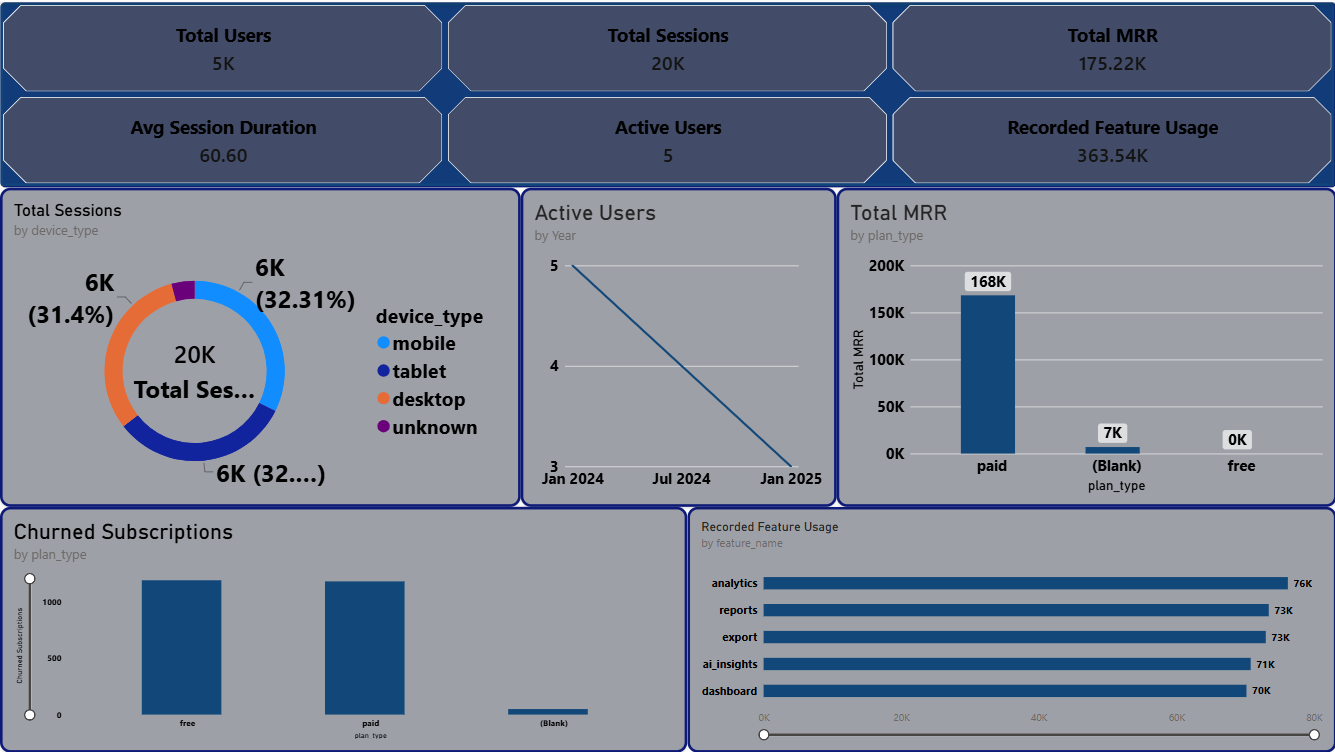

What the dashboard file says about the page in this screenshot:
{"tool":"powerbi","page":{"name":"Page 1","canvas":[1920,1080],"ordinal":0},"visuals":[{"type":"cardVisual","fields":{"Data":["public users.Total Users","public users.Total Sessions","public users.Total MRR","public users.Avg Session Duration","public users.Active Users","public users.Recorded Feature Usage"]},"box":[0,0,1921,266.9],"z":0},{"type":"clusteredBarChart","fields":{"Category":["public feature_usage.feature_name"],"Y":["public users.Recorded Feature Usage"]},"box":[987.9,725.5,933.1,353.6],"z":1000},{"type":"lineChart","fields":{"Category":["public sessions.session_date.Variation.Date Hierarchy.Year","public sessions.session_date.Variation.Date Hierarchy.Quarter","public sessions.session_date.Variation.Date Hierarchy.Month","public sessions.session_date.Variation.Date Hierarchy.Day"],"Y":["public users.Active Users"]},"box":[748.3,266.9,454,458.6],"z":2000},{"type":"donutChart","fields":{"Category":["public sessions.device_type"],"Y":["public users.Total Sessions"]},"box":[0,266.9,748.3,458.6],"z":3000},{"type":"clusteredColumnChart","fields":{"Category":["public users.plan_type"],"Y":["public users.Total MRR"]},"box":[1202.3,266.9,718.7,458.6],"z":4000},{"type":"clusteredColumnChart","fields":{"Category":["public users.plan_type"],"Y":["public users.Churned Subscriptions"]},"box":[0,725.5,987.9,353.6],"z":5000}]}

Visuals, with their boxes in screenshot pixels (x1, y1, x2, y2), scaled from the page's 1920x1080 canvas onto the 1335x752 screenshot:
cardVisual - public users.Total Users x public users.Total Sessions: detection(0, 0, 1334, 186)
clusteredBarChart - public feature_usage.feature_name x public users.Recorded Feature Usage: detection(687, 505, 1334, 751)
lineChart - public sessions.session_date.Variation.Date Hierarchy.Year x public sessions.session_date.Variation.Date Hierarchy.Quarter: detection(520, 186, 836, 505)
donutChart - public sessions.device_type x public users.Total Sessions: detection(0, 186, 520, 505)
clusteredColumnChart - public users.plan_type x public users.Total MRR: detection(836, 186, 1334, 505)
clusteredColumnChart - public users.plan_type x public users.Churned Subscriptions: detection(0, 505, 687, 751)
